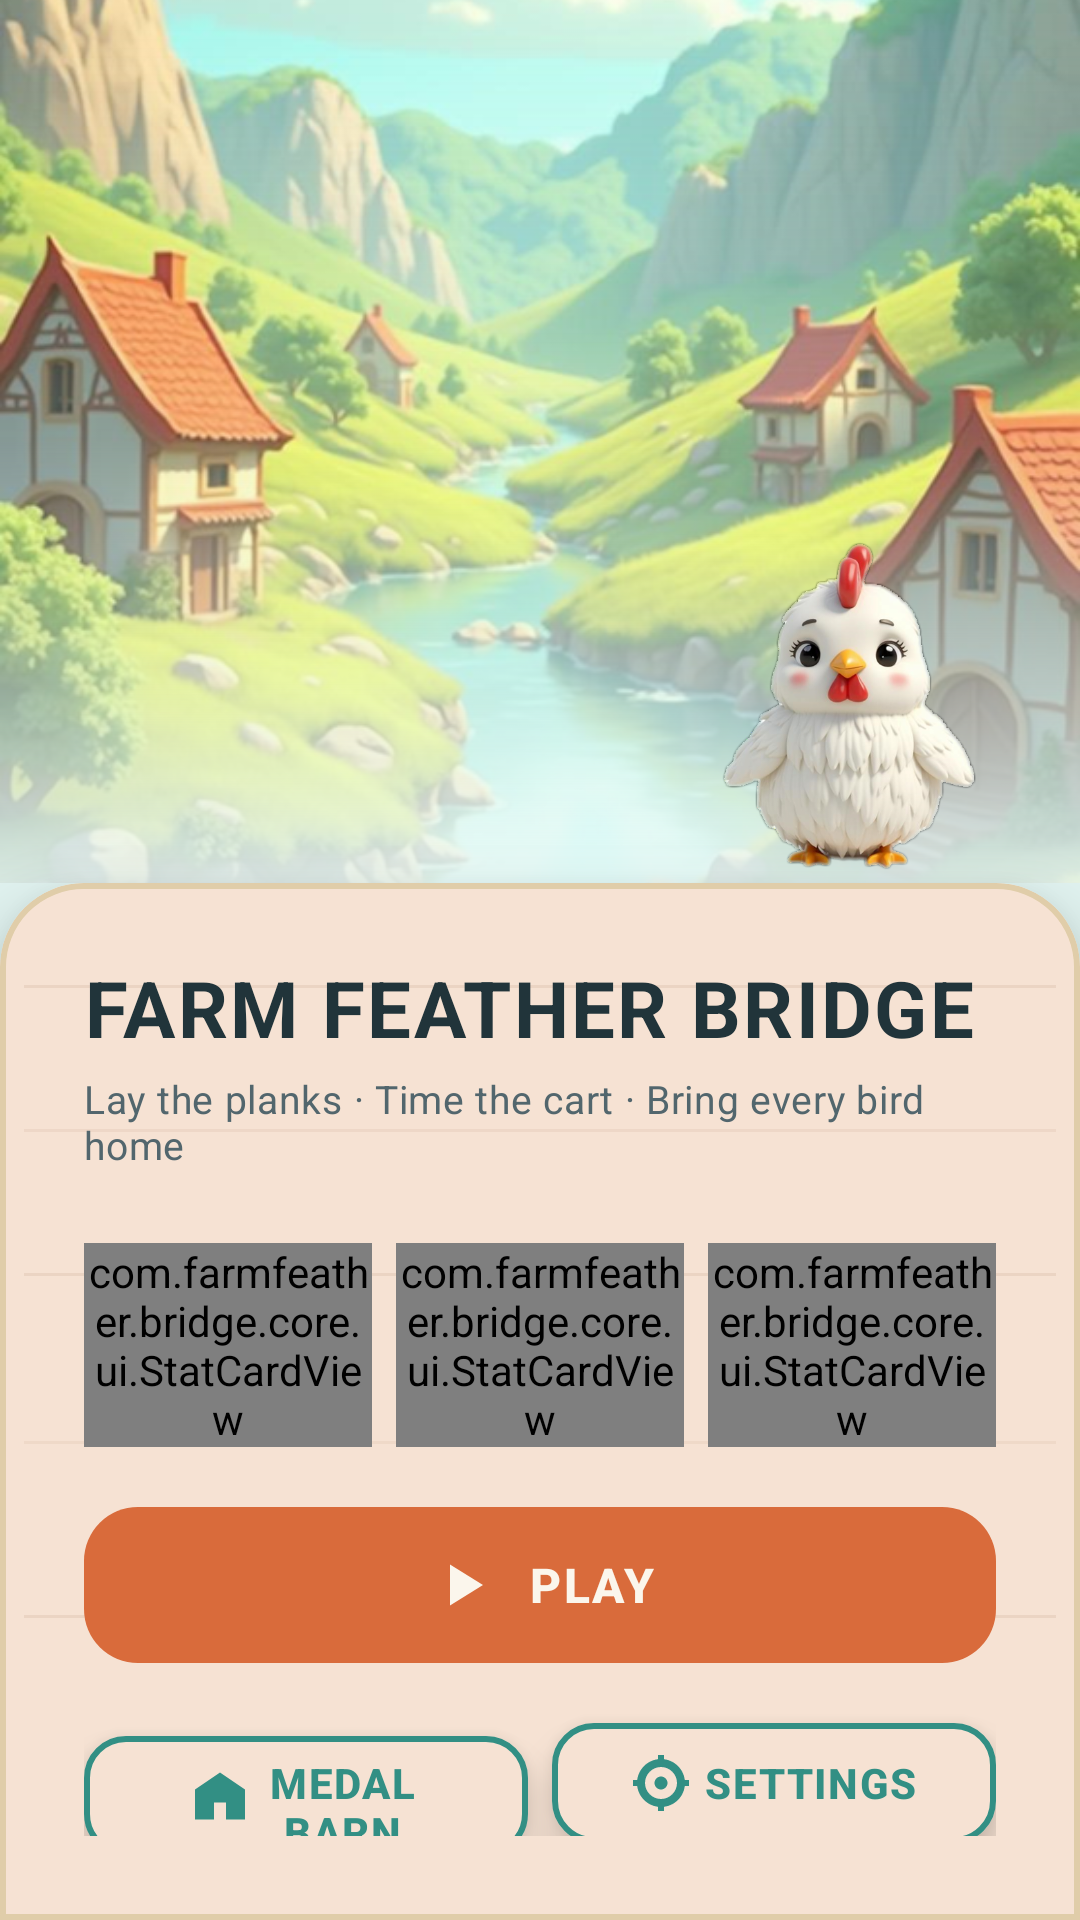

Point at icon controls on the screen. Image size 1080w x 1920h, points as (x=x, y=y).
Farm chicken mascot: (x=849, y=706)
